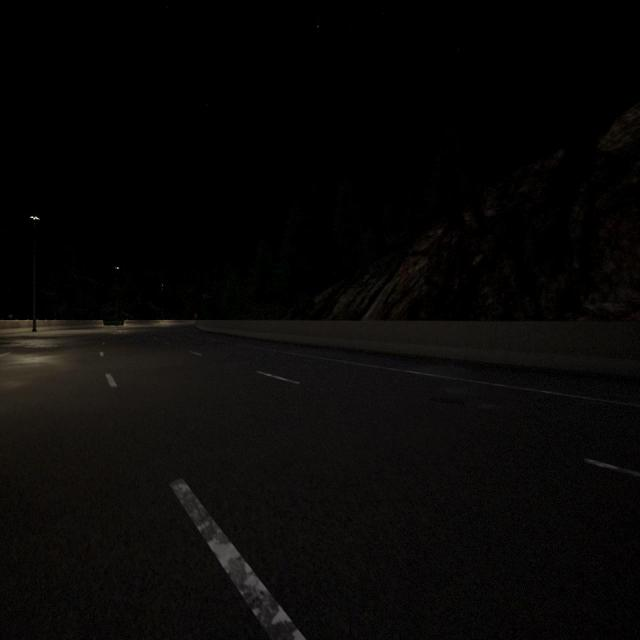Traffic_Signs: (194, 313, 197, 319)
